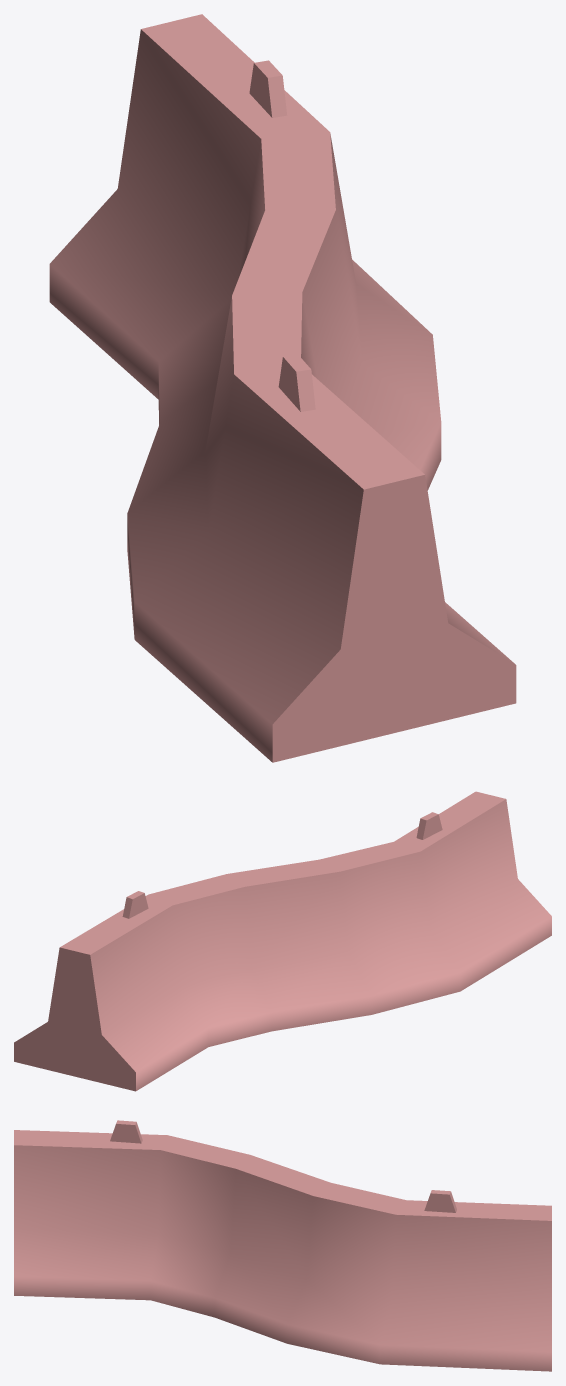
File: ConcreteBarrier_A_C_COL.fbx
3 views of the same model, one above another, from view 1: azimuth 30°, elevation 25°; view 2: azimuth 150°, elevation 25°; view 3: azimuth 270°, elevation 25° (orthographic). The views are drawn at different scales.
Visible parts, largest first — view 1: ConcreteBarrier_A_C_COL; view 2: ConcreteBarrier_A_C_COL; view 3: ConcreteBarrier_A_C_COL.
Part boxes in pixels (<box>): ConcreteBarrier_A_C_COL: <box>49,14,516,762</box>; ConcreteBarrier_A_C_COL: <box>14,791,551,1091</box>; ConcreteBarrier_A_C_COL: <box>14,1120,551,1371</box>.
Size of the model in its own units: 180 by 89.8 by 300.
